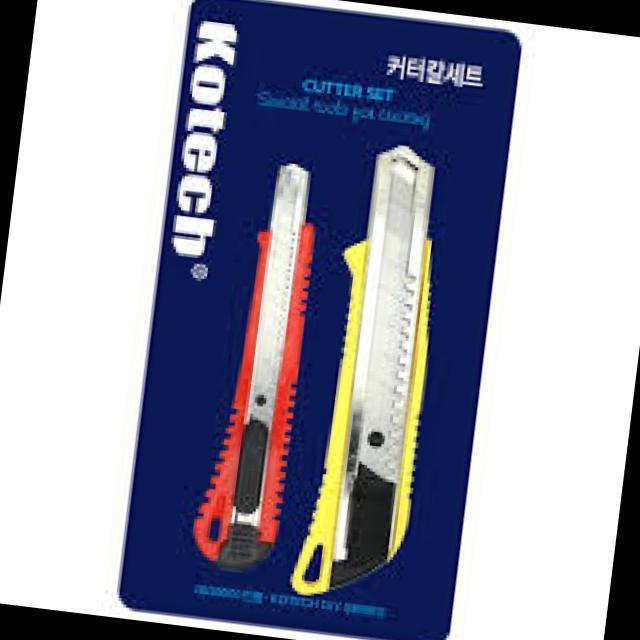cutter: (302, 130, 474, 620), (164, 147, 330, 578)
